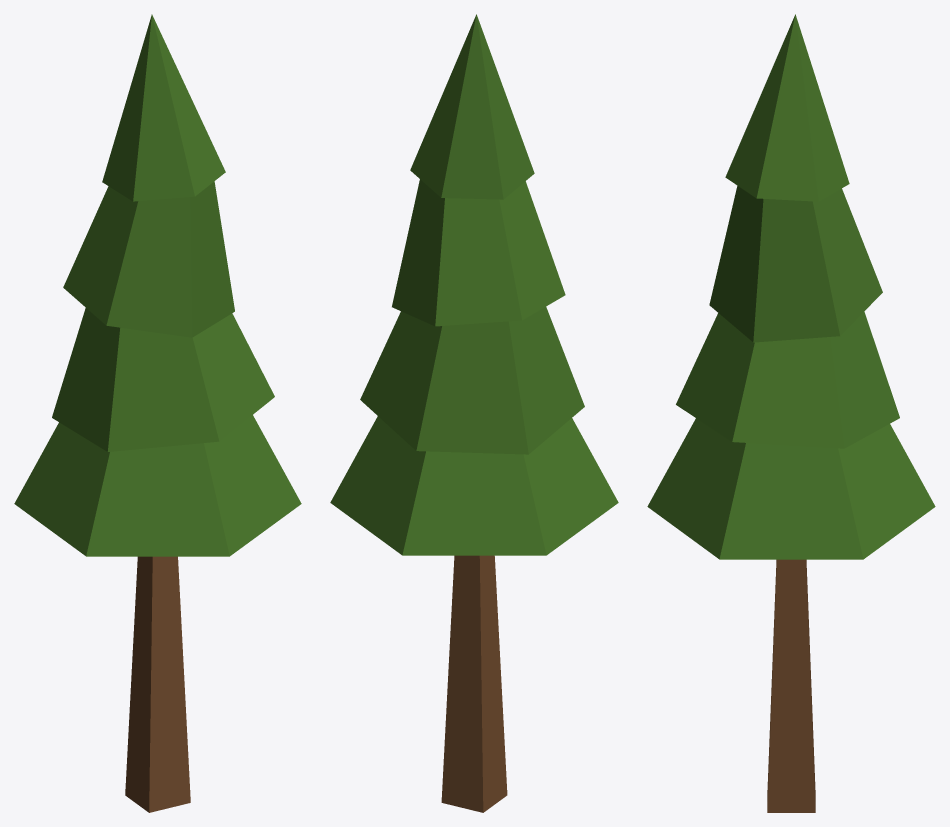
File: tree_pineTallC.glb
3 views of the same model, side by side, from view 1: azimuth 30°, elevation 25°; view 2: azimuth 150°, elevation 25°; view 3: azimuth 270°, elevation 25° (orthographic).
Parts seen in each view (by area): view 1: tree_pineTallC; view 2: tree_pineTallC; view 3: tree_pineTallC.
Part boxes in pixels (<box>): tree_pineTallC: <box>14,14,301,812</box>; tree_pineTallC: <box>330,14,618,812</box>; tree_pineTallC: <box>647,14,935,812</box>.
Bounding box in the file's own units: 0.4804 × 1.67 × 0.5547.
